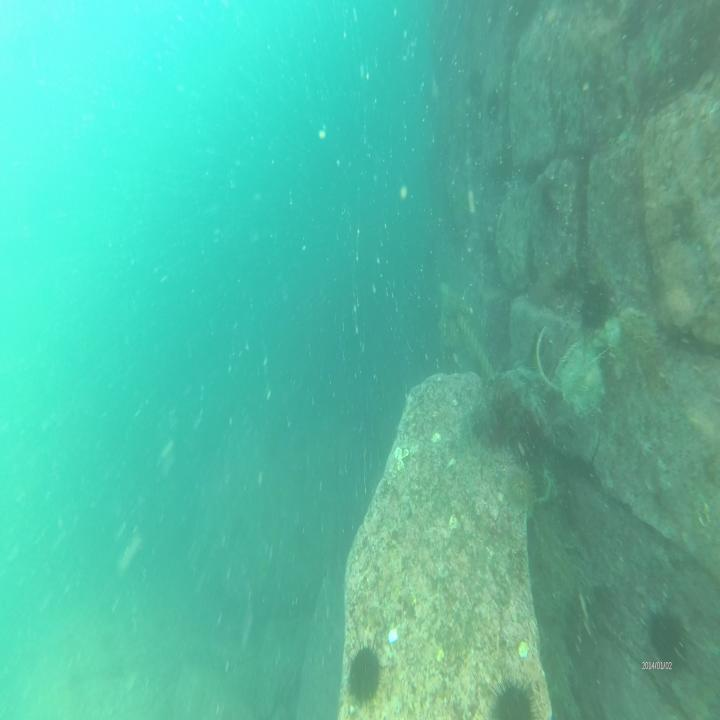echinus: (647, 599, 695, 667), (490, 670, 536, 720), (348, 642, 382, 699), (580, 275, 611, 326)
